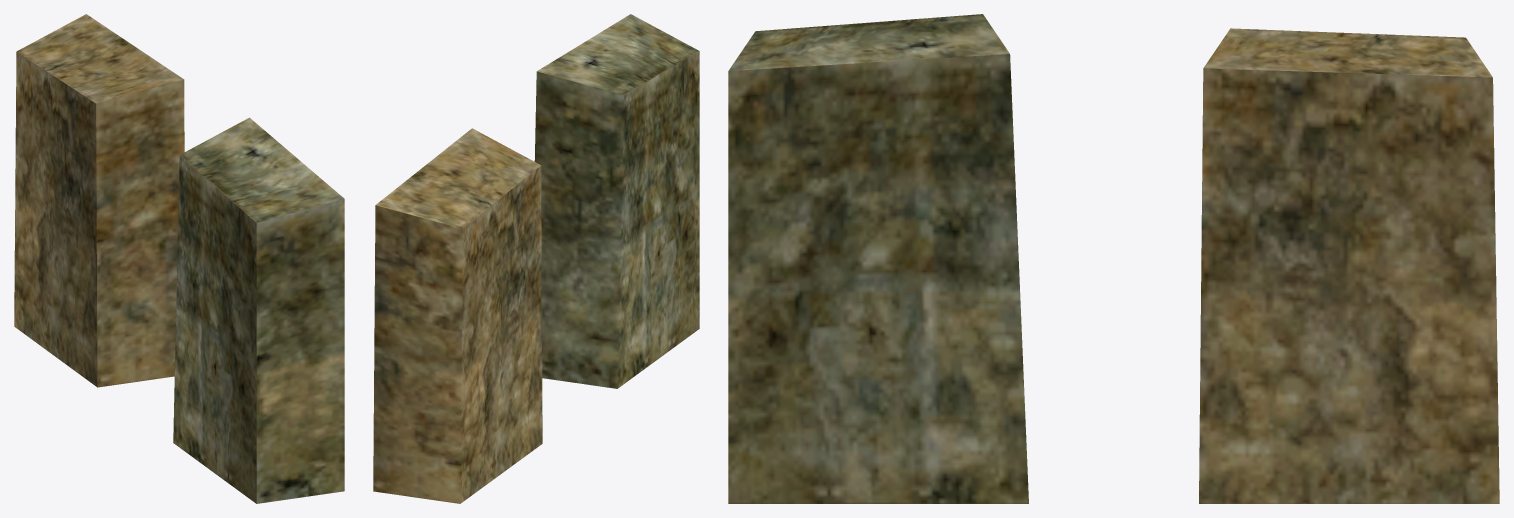
File: hrz101.glb
3 renders of one model, left to right at view 1: azimuth 30°, elevation 25°; view 2: azimuth 150°, elevation 25°; view 3: azimuth 270°, elevation 25°, orthographic. The views are drawn at different scales.
Parts seen in each view (by area): view 1: hrz101-col; view 2: hrz101-col; view 3: hrz101-col.
Boxes of the visible parts, box(x1,y1,x2,y2) form: hrz101-col: box(14, 14, 344, 503); hrz101-col: box(373, 14, 699, 503); hrz101-col: box(728, 14, 1499, 503).
Size of the model in its own units: 0.574 by 2.11 by 3.28.
Materials: 2 (2 with a texture image).
